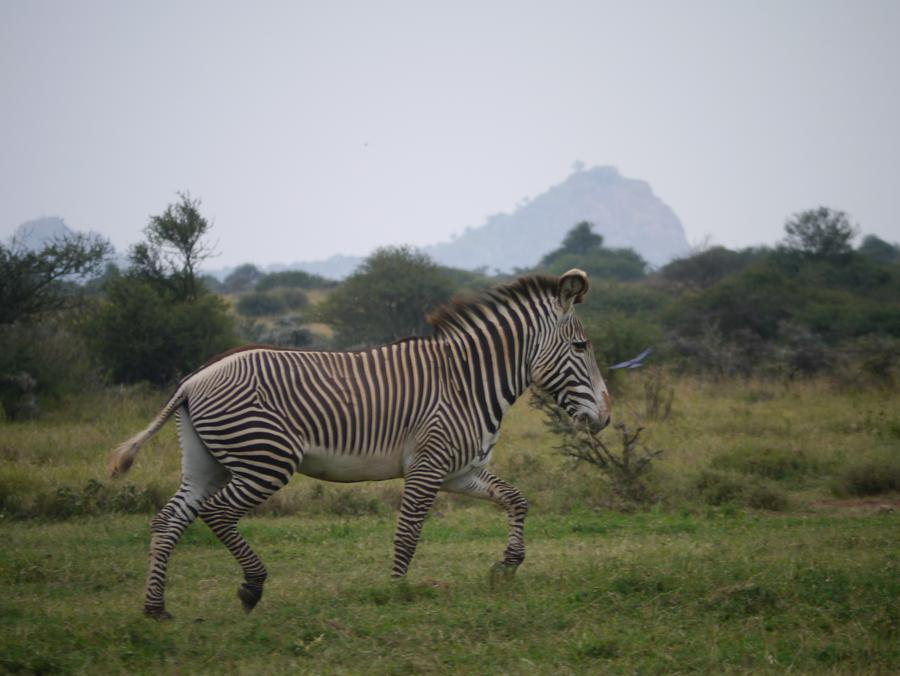zebra_grevys: (164, 341, 488, 466)
